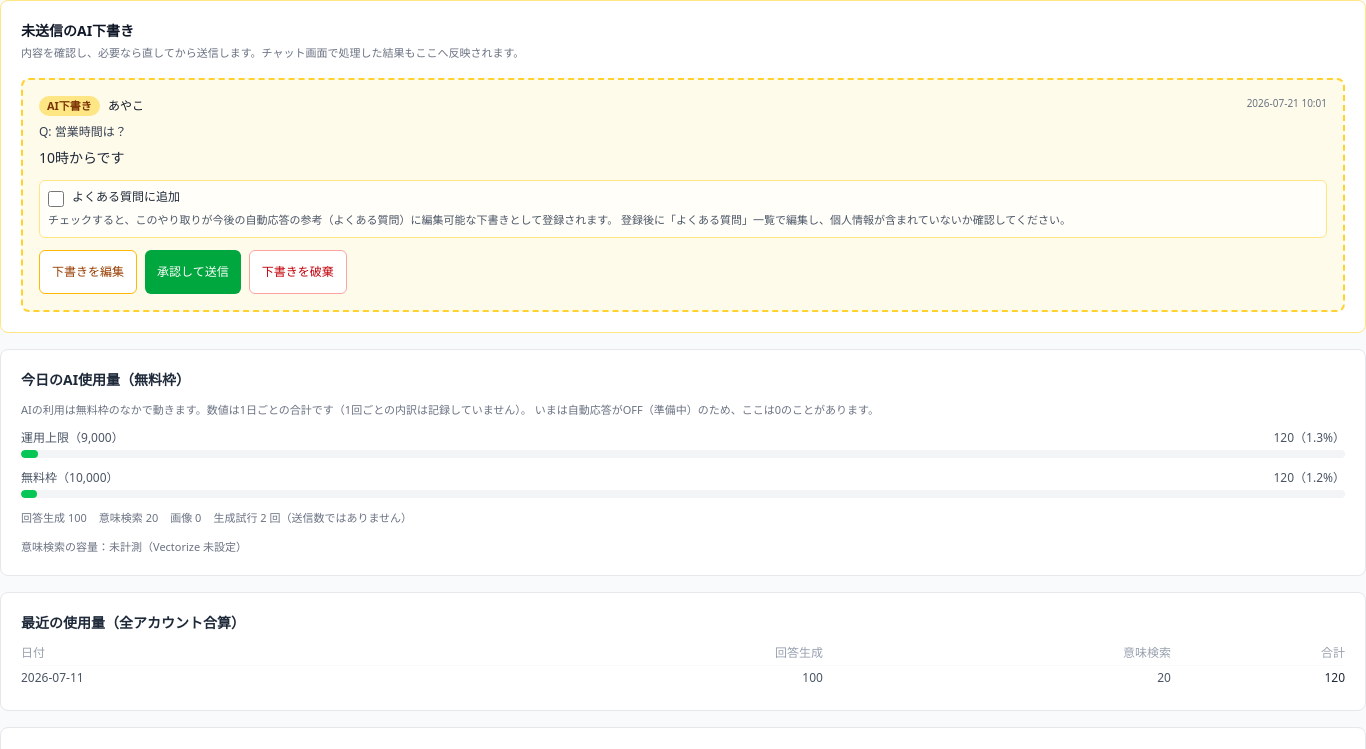
Scenario: /knowledge page — AI ログ・コストタブ › 中央のFAQ追加は注意書きつきで既定OFFになり、OFF承認ではfalseを送る
Expected: the checkbox labelled "よくある質問に追加" is not checked, [48,191,64,207]
What coordinates should you click on to do the following:
click the button "承認して送信"
I would click on:
 (193, 272)
Its box is [145,250,241,294].
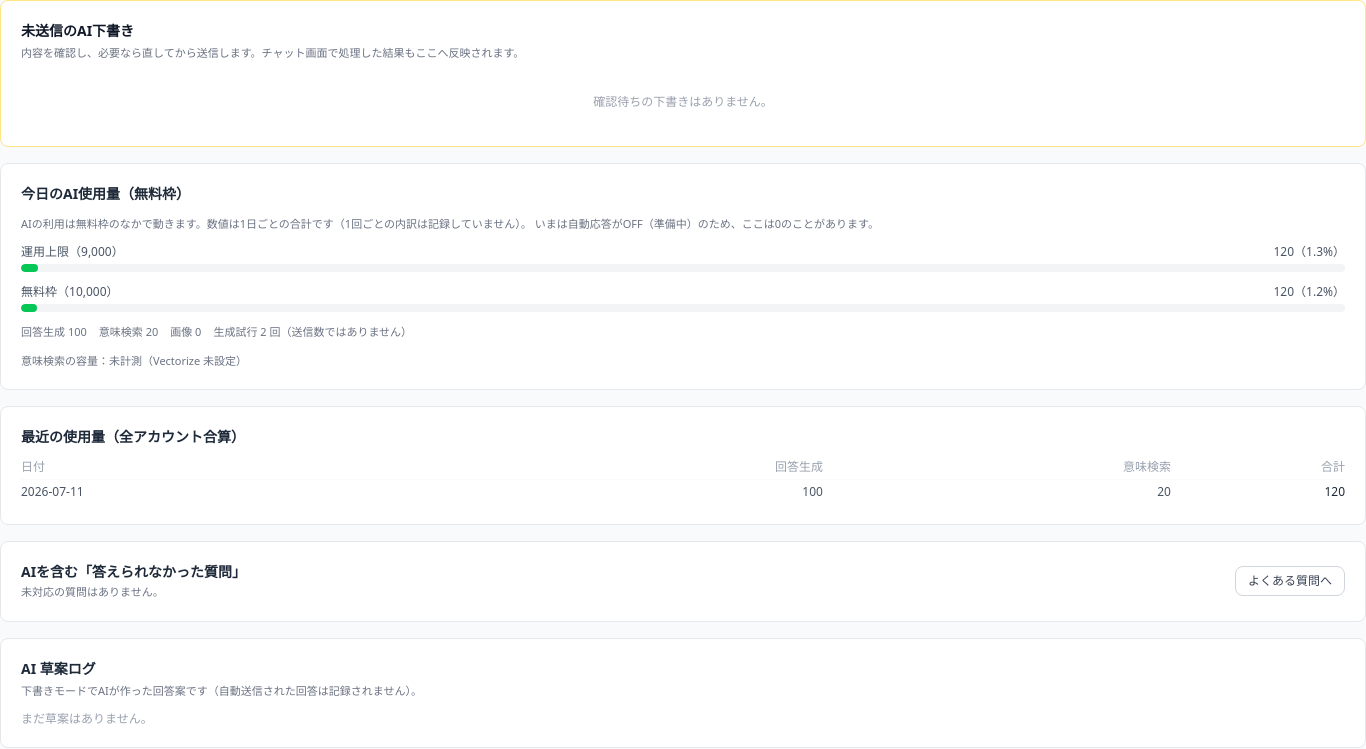
Expected: the element with test id "central-ai-draft-draft-1" is gone
